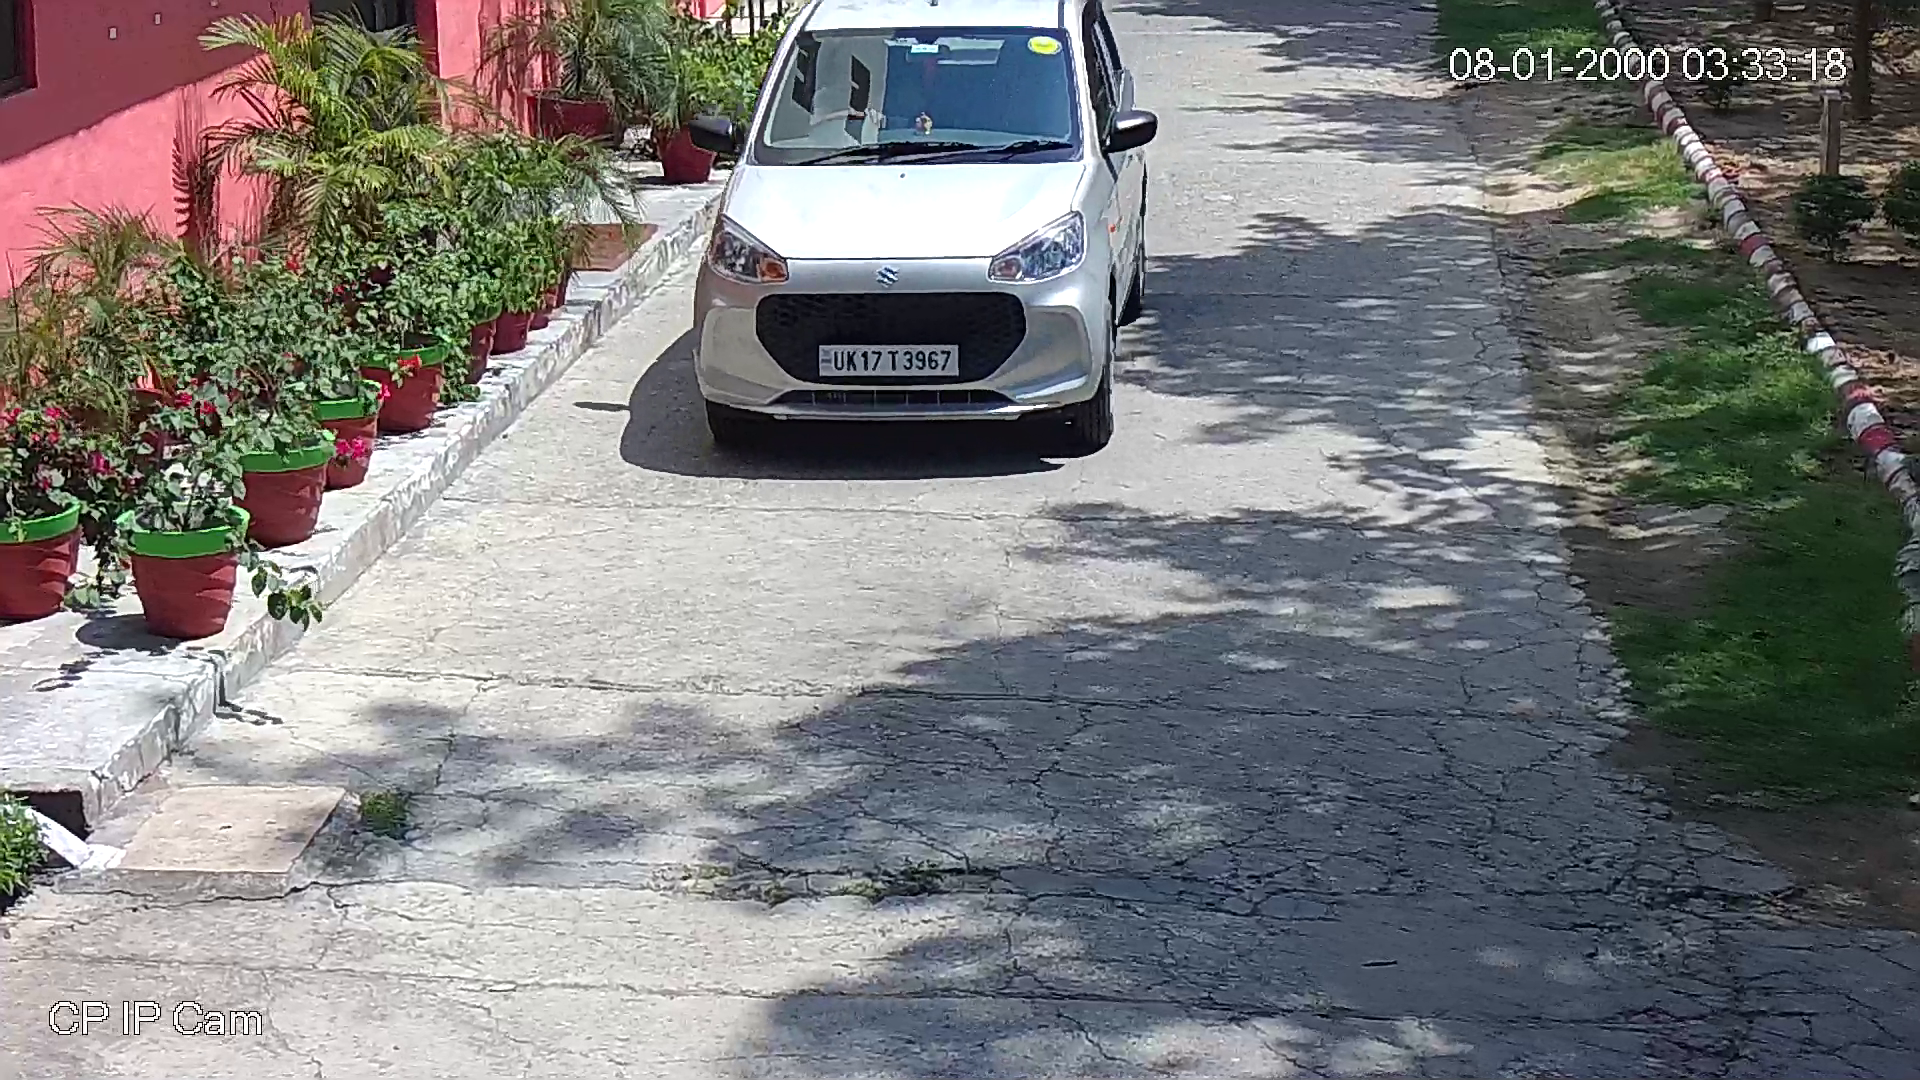plate: (815, 339, 963, 381)
